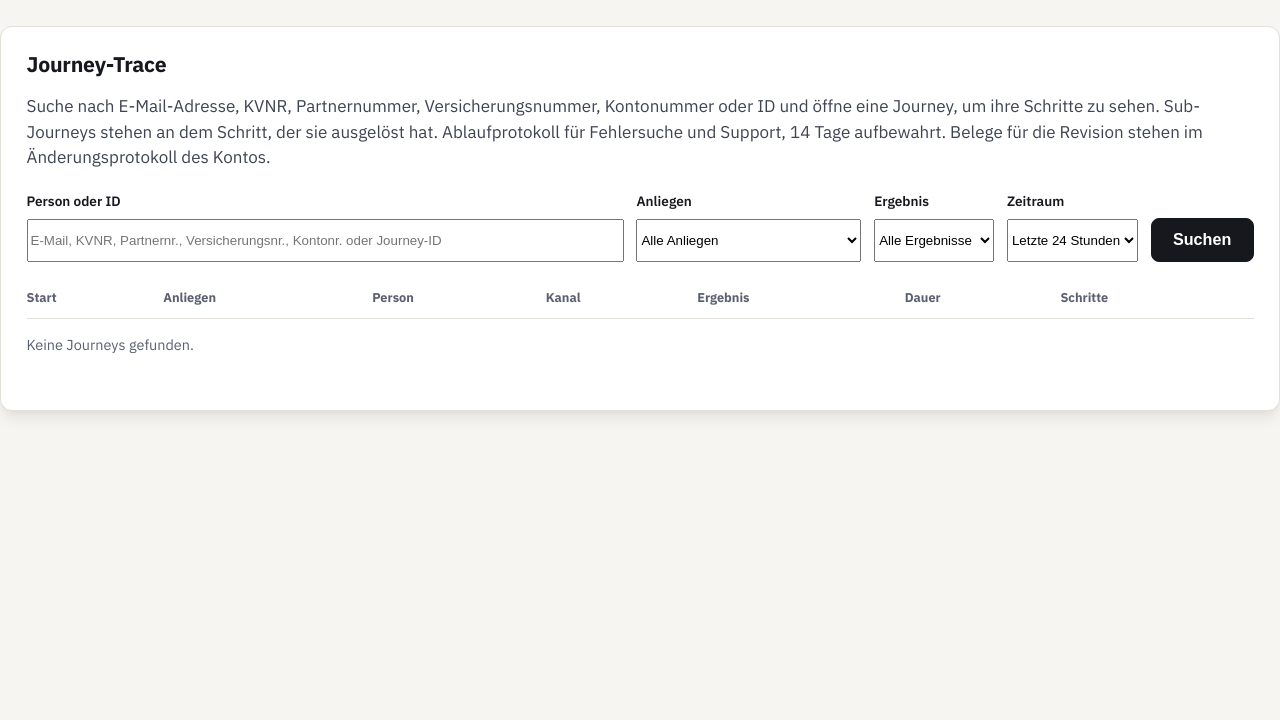
JourneyTraceView › says so when no account holds the value
In the search field labelled "Person oder ID": [325, 240] box [26,219,624,262], type "P000000000"
Then press Enter
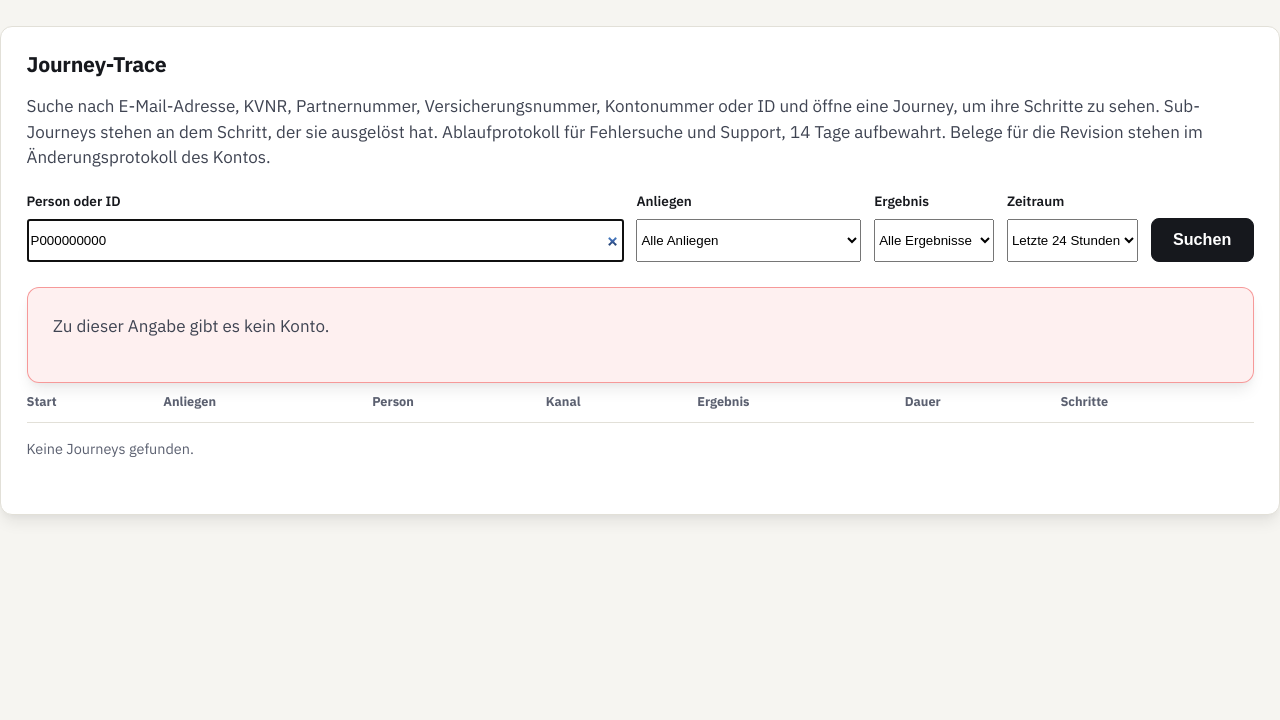
Now the text "Zu dieser Angabe gibt es kein Konto." is shown, box [53,314,329,336]
